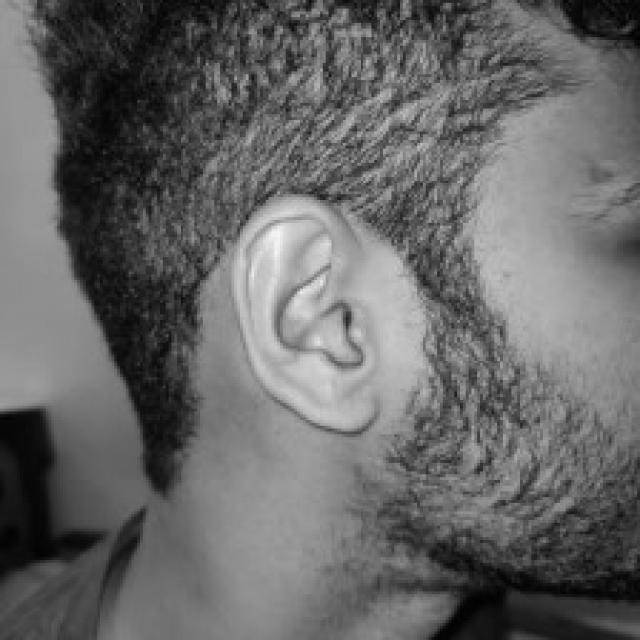ear: (231, 191, 371, 431)
